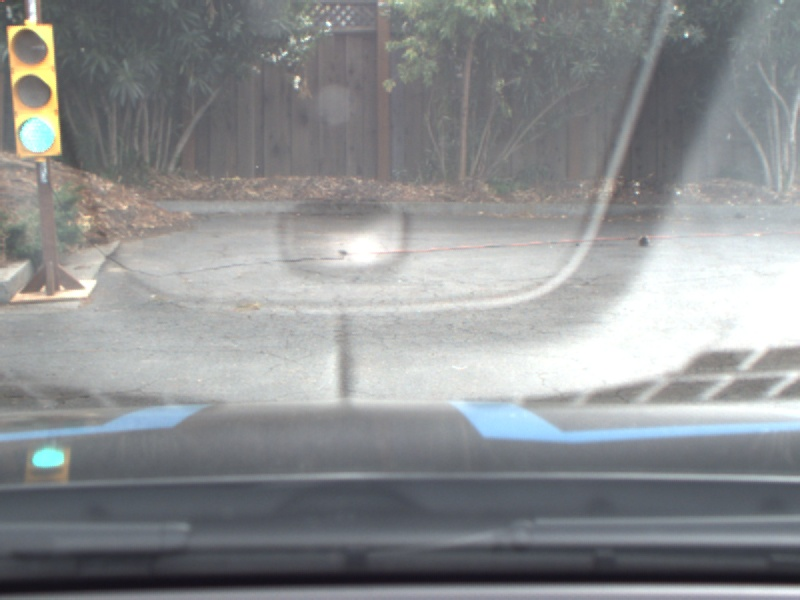green: (5, 22, 63, 158)
